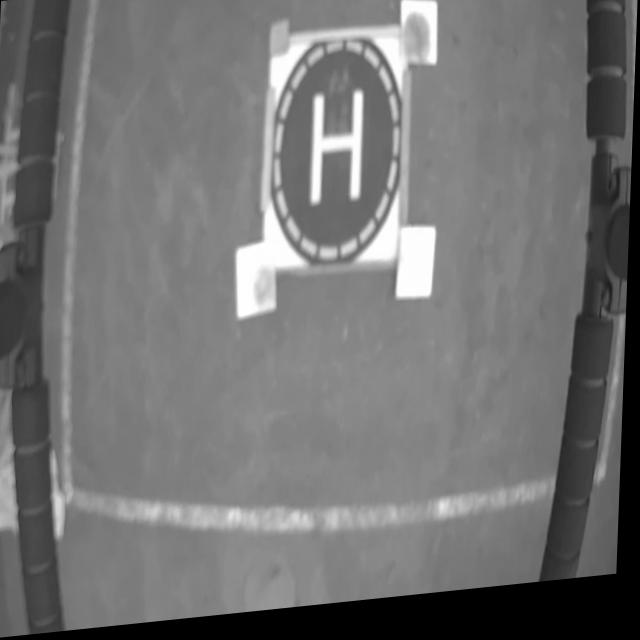Helipad: (311, 94, 364, 210)
